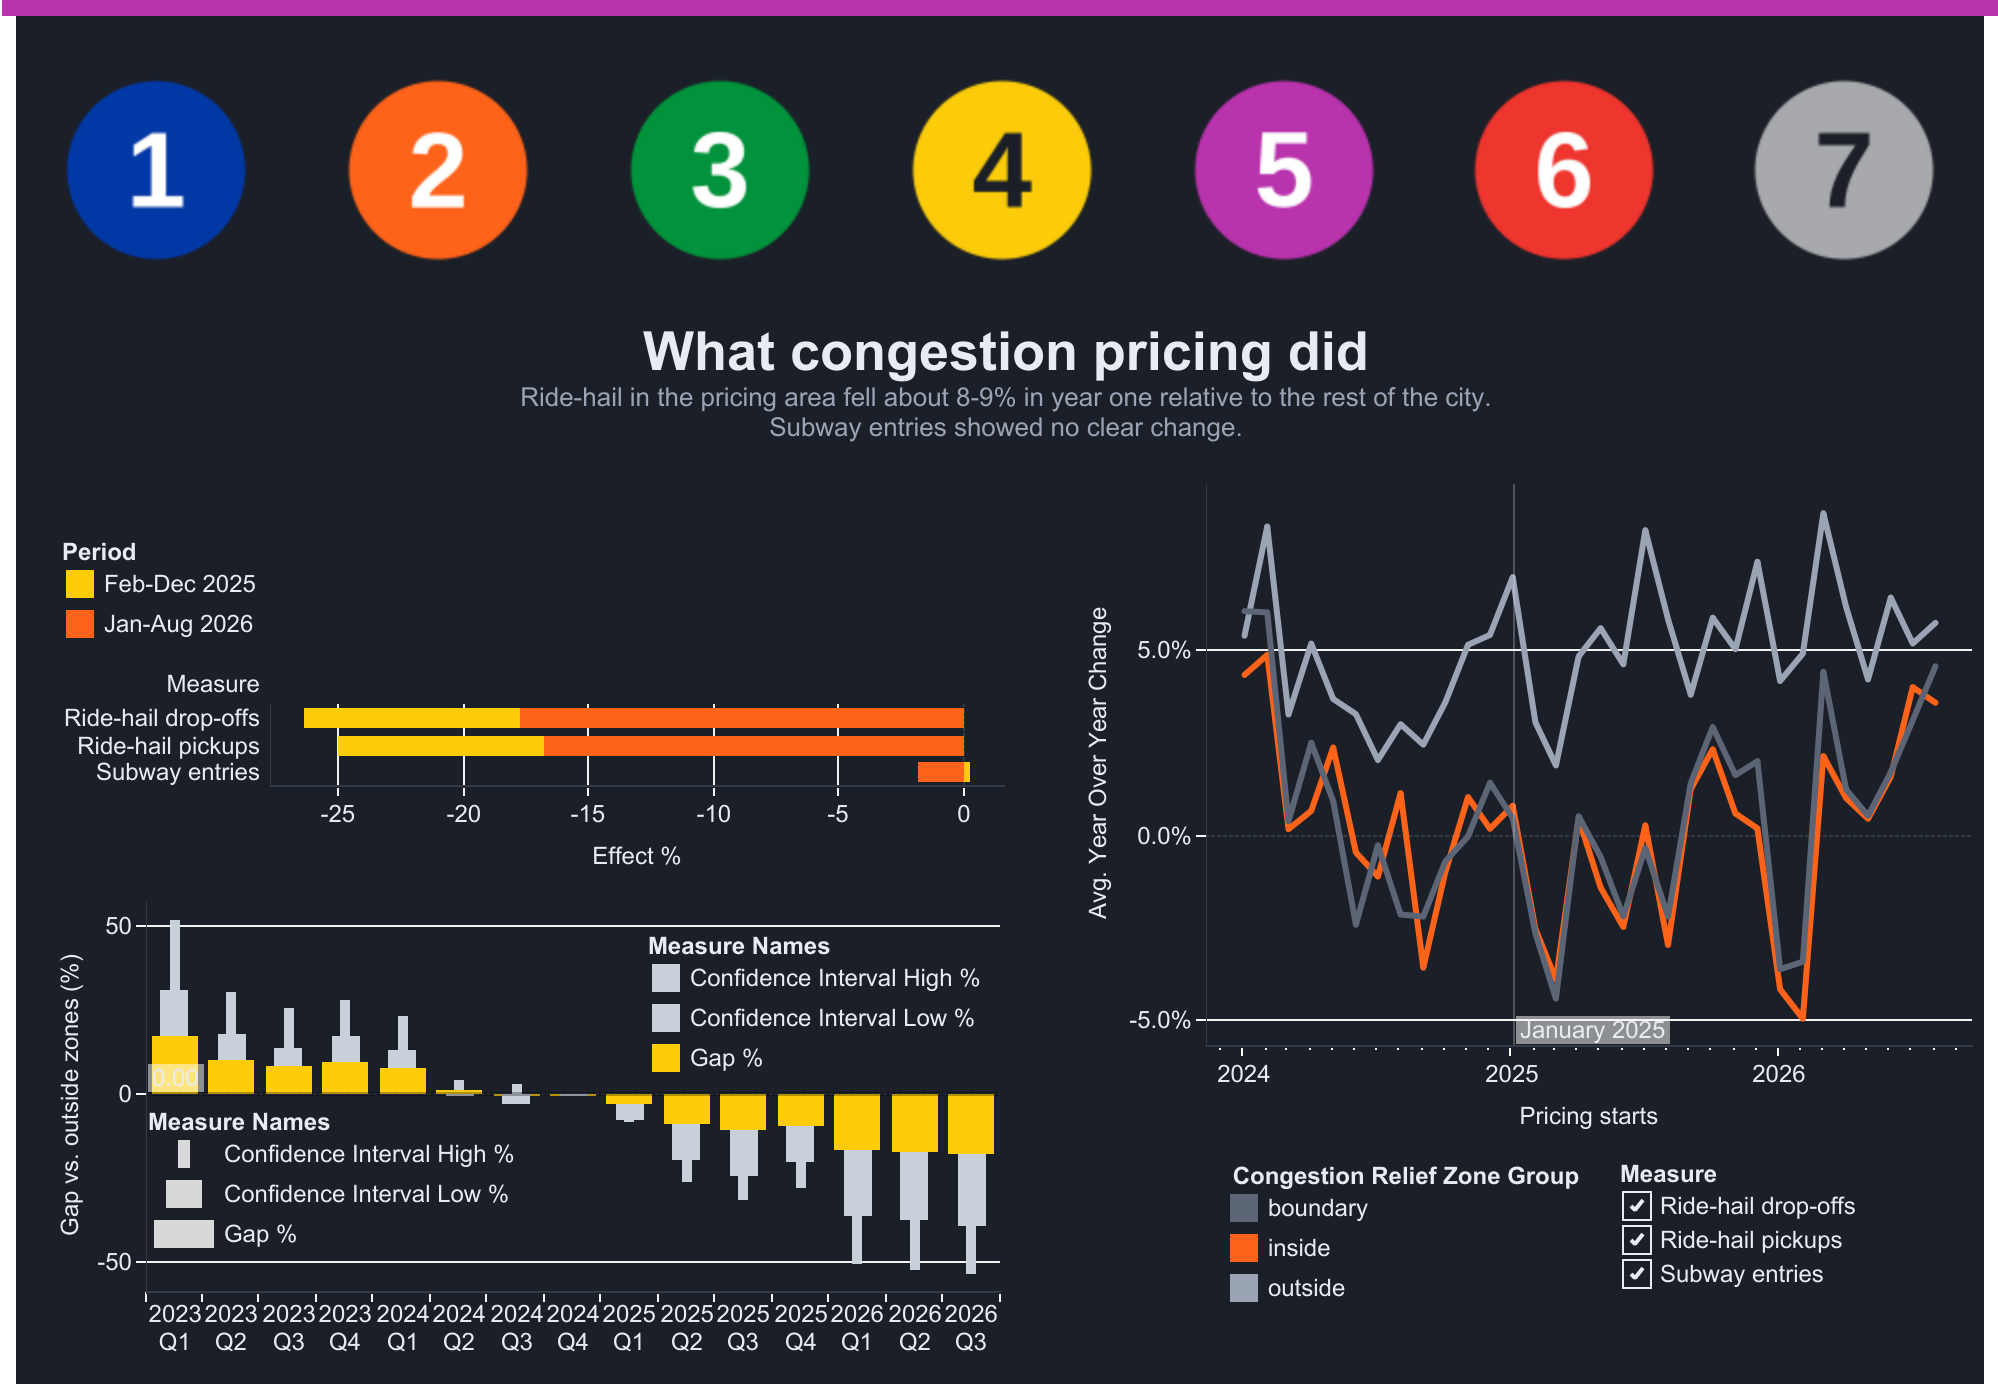

This screenshot's page, from the dashboard's own definition file:
{"tool":"tableau","page":{"name":"Toll Booth","canvas":[1000,700],"ordinal":6},"visuals":[{"type":"blank","box":[1,0,1000,8]},{"type":"blank","box":[8,8,984,27]},{"type":"dashboard-object","box":[8,35,141,100]},{"type":"dashboard-object","box":[149,35,141,100]},{"type":"dashboard-object","box":[290,35,141,100]},{"type":"dashboard-object","box":[431,35,141,100]},{"type":"dashboard-object","box":[572,35,140,100]},{"type":"dashboard-object","box":[712,35,140,100]},{"type":"dashboard-object","box":[852,35,140,100]},{"type":"blank","box":[8,135,984,94]},{"type":"text","box":[238,155,530,71]},{"type":"worksheet","title":"Pricing: Inside vs Outside","mark":"Automatic","rows":["yoy_change"],"cols":["ym"],"box":[535,242,451,330]},{"type":"legend","title":"Pricing: Estimates","param":"[federated.00eodvu119yypa1a1ou1x0hwri47].[none:period:nk]","box":[30,267,162,63]},{"type":"worksheet","title":"Pricing: Estimates","mark":"Automatic","rows":["measure"],"cols":["effect_pct"],"box":[15,332,487,110]},{"type":"worksheet","title":"Pricing: Event Study","mark":"Automatic","cols":["quarter"],"box":[21,451,479,235]},{"type":"legend","title":"Pricing: Event Study","param":"[federated.0zy80tn0l3i5461da1yle0fdhm14].[:Measure Names]","box":[323,464,178,81]},{"type":"legend","title":"Pricing: Event Study","param":"[federated.0zy80tn0l3i5461da1yle0fdhm14].[:Measure Names]","box":[73,552,198,79]},{"type":"legend","title":"Pricing: Inside vs Outside","param":"[federated.0izlvvh04ruic516v95s70dejju4].[none:crz_group:nk]","box":[612,579,180,93]},{"type":"filter","title":"Pricing: Inside vs Outside","param":"[federated.0izlvvh04ruic516v95s70dejju4].[none:measure:nk]","box":[810,579,170,97]}]}

Visuals, with their boxes in screenshot pixels (x1, y1, x2, y2), scaled from the page's 1000x700 canvas onto the 1998x1398 screenshot:
blank: <region>2, 0, 1997, 16</region>
blank: <region>16, 16, 1982, 70</region>
dashboard-object: <region>16, 70, 298, 270</region>
dashboard-object: <region>298, 70, 579, 270</region>
dashboard-object: <region>579, 70, 861, 270</region>
dashboard-object: <region>861, 70, 1143, 270</region>
dashboard-object: <region>1143, 70, 1423, 270</region>
dashboard-object: <region>1423, 70, 1702, 270</region>
dashboard-object: <region>1702, 70, 1982, 270</region>
blank: <region>16, 270, 1982, 457</region>
text: <region>476, 310, 1534, 451</region>
"Pricing: Inside vs Outside" worksheet: <region>1069, 483, 1970, 1142</region>
"Pricing: Estimates" legend: <region>60, 533, 384, 659</region>
"Pricing: Estimates" worksheet: <region>30, 663, 1003, 883</region>
"Pricing: Event Study" worksheet: <region>42, 901, 999, 1370</region>
"Pricing: Event Study" legend: <region>645, 927, 1001, 1088</region>
"Pricing: Event Study" legend: <region>146, 1102, 541, 1260</region>
"Pricing: Inside vs Outside" legend: <region>1223, 1156, 1582, 1342</region>
"Pricing: Inside vs Outside" filter: <region>1618, 1156, 1958, 1350</region>
